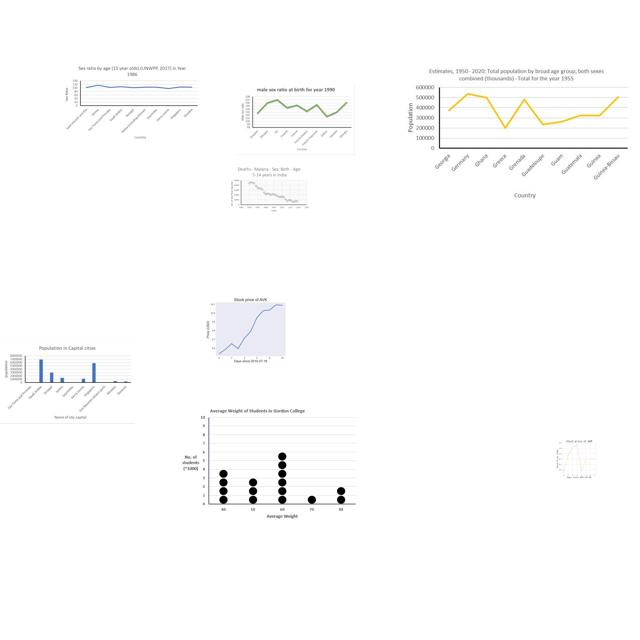Graph: (402, 64, 633, 201), (177, 405, 359, 524), (0, 342, 135, 424), (63, 62, 200, 141), (237, 84, 355, 155), (203, 294, 296, 364), (229, 166, 310, 213), (551, 438, 606, 479)
